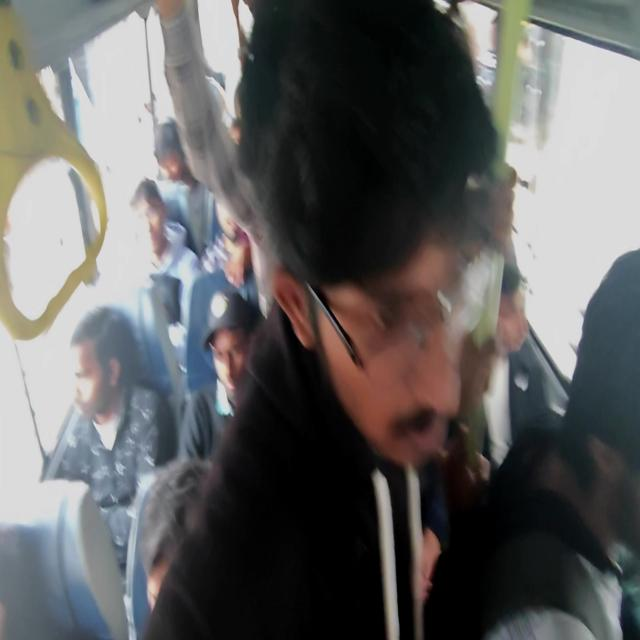person: (336, 225, 480, 474), (569, 250, 640, 473), (138, 452, 212, 620), (70, 304, 142, 432), (185, 269, 248, 399), (129, 176, 196, 287), (0, 521, 47, 639), (497, 260, 543, 364), (150, 118, 188, 182), (214, 197, 242, 235), (229, 115, 243, 146)
